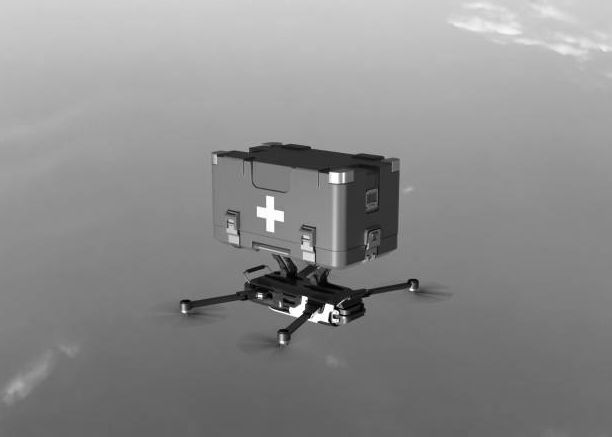Drone: (137, 256, 460, 365)
